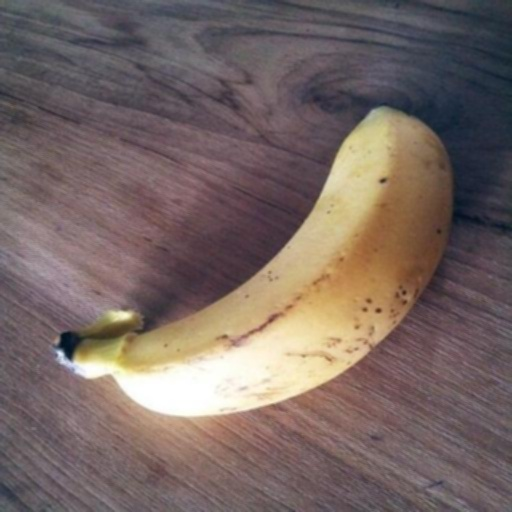fruit: (405, 110, 485, 388)
